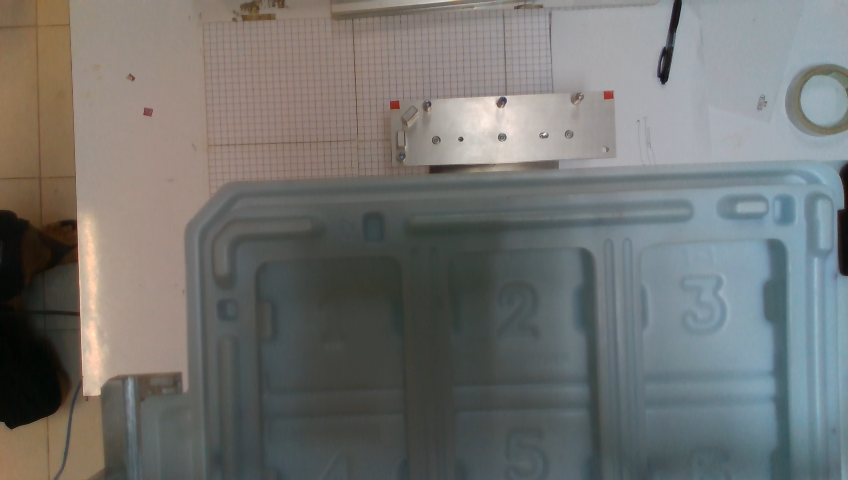red: (603, 91, 613, 100), (390, 101, 400, 109)
